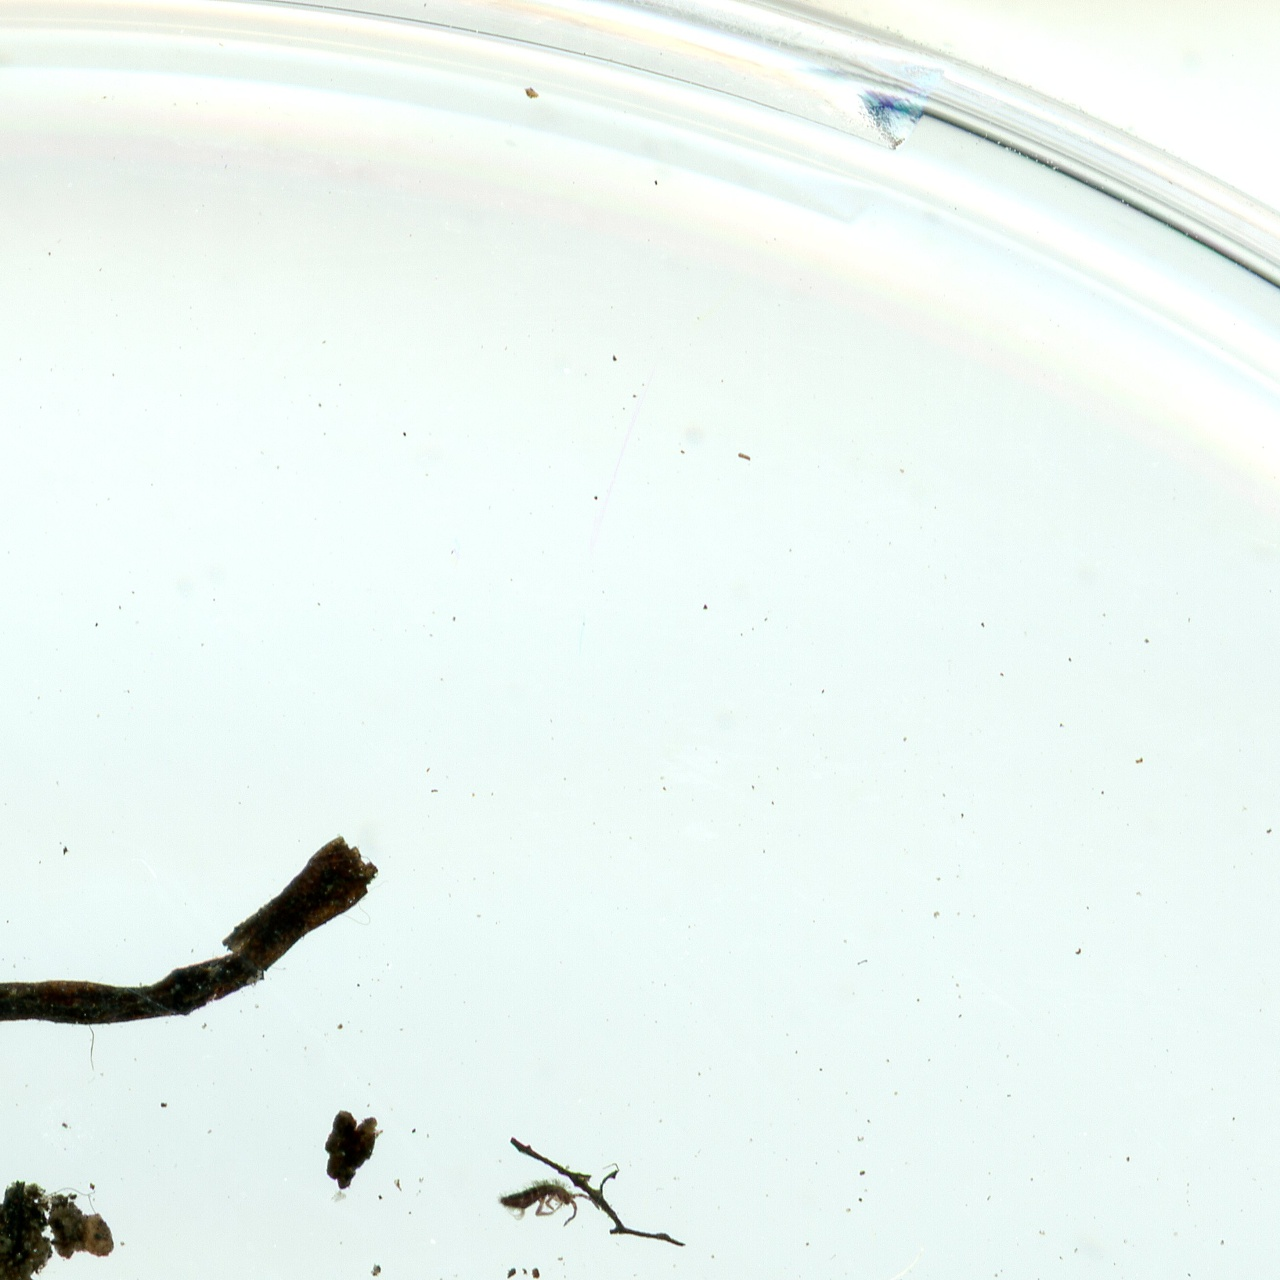arthropod: (496, 1180, 590, 1224)
